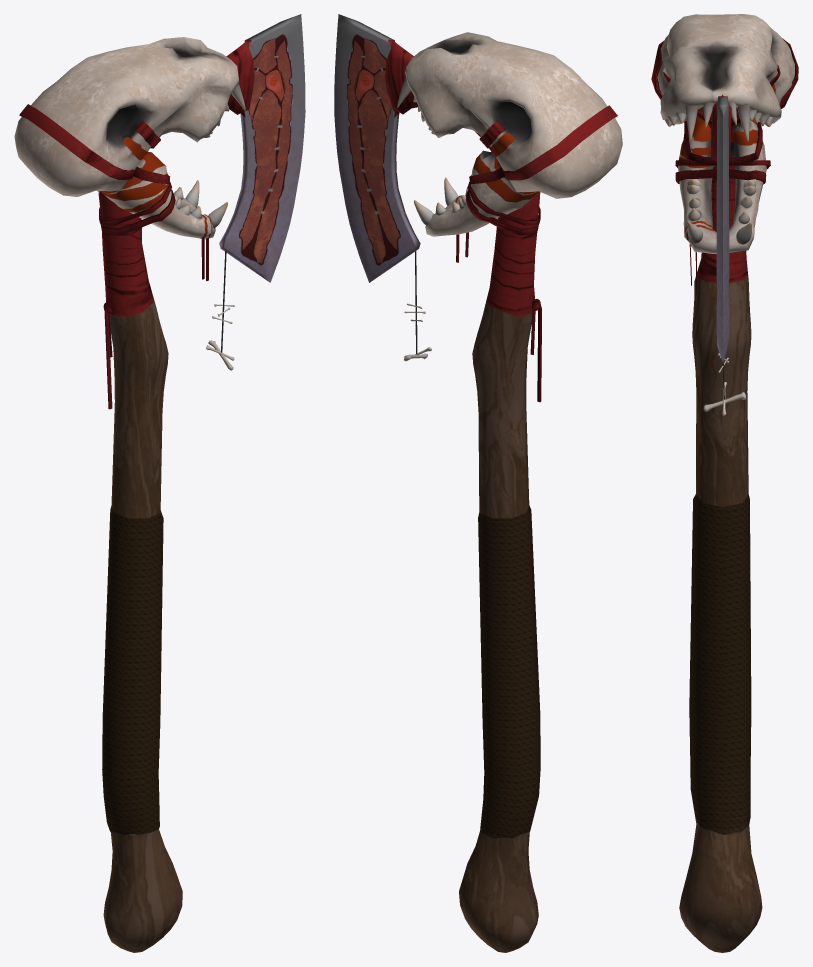
3 renders of one model, left to right at view 1: azimuth 30°, elevation 25°; view 2: azimuth 150°, elevation 25°; view 3: azimuth 270°, elevation 25°, orthographic. The views are drawn at different scales.
Parts seen in each view (by area): view 1: HachaTerminada_low; view 2: HachaTerminada_low; view 3: HachaTerminada_low.
Boxes of the visible parts, x1,y1,x2,y2 form: HachaTerminada_low: [14, 14, 305, 952]; HachaTerminada_low: [334, 14, 622, 952]; HachaTerminada_low: [651, 14, 798, 952].
Bounding box in the file's own units: 0.0689 × 0.2166 × 0.0312.
1 material, 1 textured.
